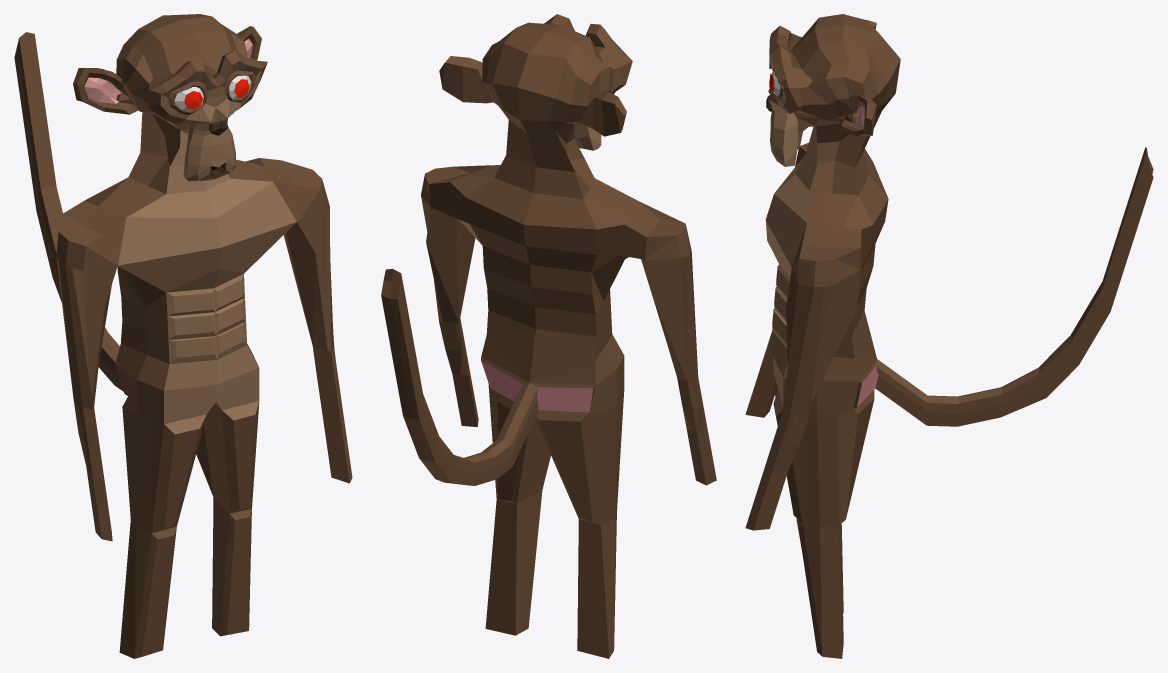
File: Monkey_Character.fbx
The picture shows the model from 3 angles, left to right: view 1: azimuth 30°, elevation 25°; view 2: azimuth 150°, elevation 25°; view 3: azimuth 270°, elevation 25°; orthographic projection. The views are drawn at different scales.
Parts seen in each view (by area): view 1: Suzanne; view 2: Suzanne; view 3: Suzanne.
Part boxes in pixels (box(x1,y1,x2,y2)): Suzanne: box(14, 14, 352, 658); Suzanne: box(381, 14, 716, 658); Suzanne: box(745, 14, 1153, 658).
Bounding box in the file's own units: 116 × 256 × 157.
